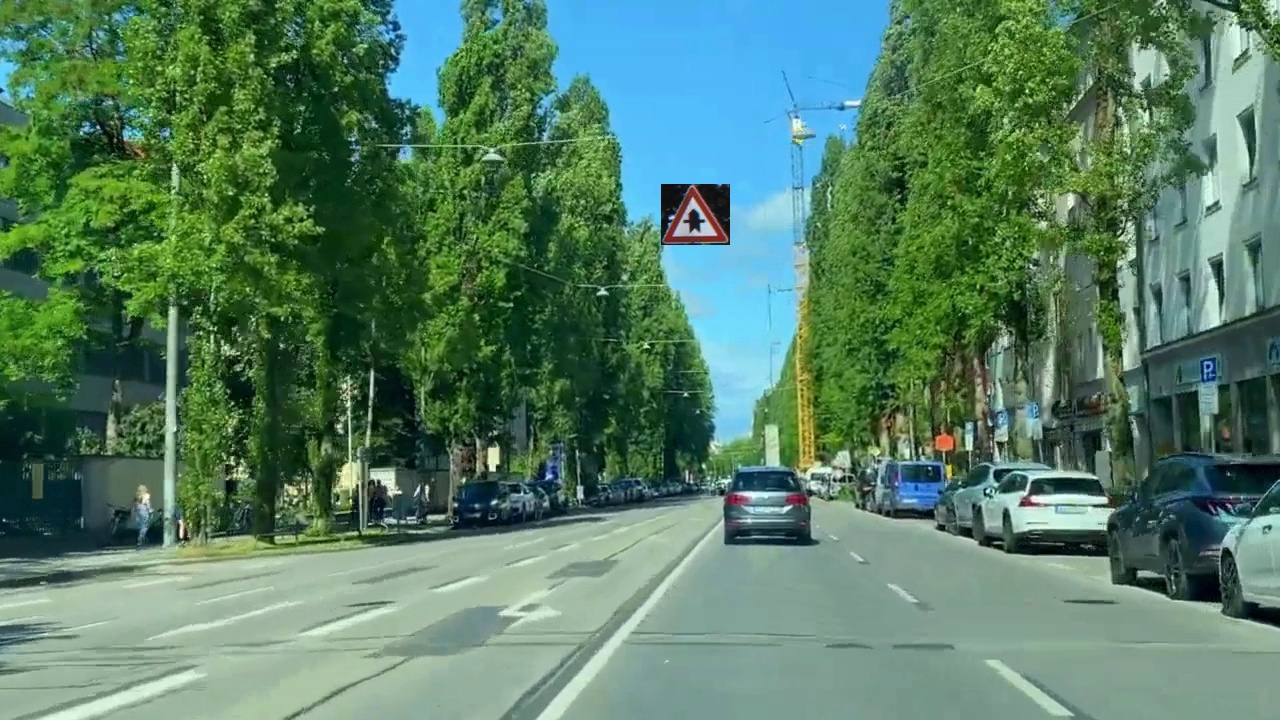Right-of-way: (661, 184, 730, 245)
